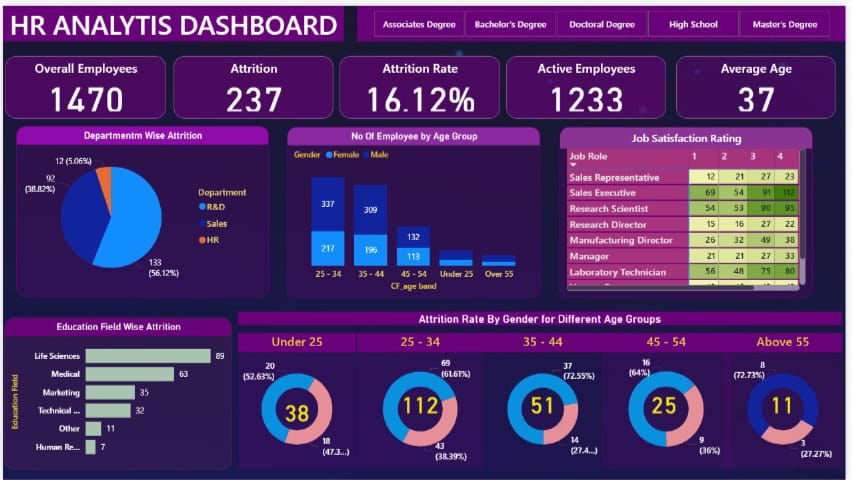

The dashboard page shown, as its layout file describes it:
{"tool":"powerbi","page":{"name":"Page 1","canvas":[1280,720],"ordinal":0},"visuals":[{"type":"card","title":"Overall Employees","fields":{"Values":["Sum(HR data.Employee Count)"]},"box":[3.8,76.2,243.8,95],"z":0},{"type":"card","title":"Attrition","fields":{"Values":["Sum(HR data.Attrition Count)"]},"box":[260,76.2,242.5,95],"z":1000},{"type":"card","title":"Attrition Rate","fields":{"Values":["HR data.Attriron Rate"]},"box":[511.2,76.2,243.8,95],"z":2000},{"type":"card","title":"Active Employees","fields":{"Values":["HR data.Actual Employees"]},"box":[765,76.2,242.5,95],"z":3000},{"type":"card","title":"Average Age","fields":{"Values":["Avg(HR data.Age)"]},"box":[1022.5,76.2,242.5,95],"z":4000},{"type":"pieChart","title":" Departmentm Wise Attrition","fields":{"Category":["HR data.Department"],"Y":["Sum(HR data.Attrition Count)"]},"box":[20,182.5,383.8,260],"z":5000},{"type":"columnChart","title":"No Of Employee by Age Group","fields":{"Category":["HR data.CF_age band"],"Y":["Sum(HR data.Employee Count)"],"Series":["HR data.Gender"]},"box":[431.2,183.8,385,260],"z":6000},{"type":"barChart","title":"Education  Field Wise Attrition","fields":{"Category":["HR data.Education Field"],"Y":["Sum(HR data.Attrition Count)"]},"box":[2.5,473.8,345,230],"z":7000},{"type":"donutChart","title":"Under 25","fields":{"Category":["HR data.Gender"],"Y":["Sum(HR data.Attrition Count)"],"Series":["HR data.CF_age band"]},"box":[357.5,496.2,180,207.5],"z":8000},{"type":"textbox","title":"Attrition  Rate By Gender for Different Age Groups","box":[357.5,465,917.5,20],"z":9000},{"type":"donutChart","title":"25 - 34","fields":{"Category":["HR data.Gender"],"Y":["Sum(HR data.Attrition Count)"],"Series":["HR data.CF_age band"]},"box":[537.5,496.2,192.5,207.5],"z":10000},{"type":"donutChart","title":"35 - 44","fields":{"Category":["HR data.Gender"],"Y":["Sum(HR data.Attrition Count)"],"Series":["HR data.CF_age band"]},"box":[730,496.2,180,207.5],"z":11000},{"type":"donutChart","title":"45 - 54","fields":{"Category":["HR data.Gender"],"Y":["Sum(HR data.Attrition Count)"],"Series":["HR data.CF_age band"]},"box":[910,496.2,195,207.5],"z":12000},{"type":"donutChart","title":"Above 55","fields":{"Category":["HR data.Gender"],"Y":["Sum(HR data.Attrition Count)"],"Series":["HR data.CF_age band"]},"box":[1095,496.2,180,207.5],"z":13000},{"type":"card","fields":{"Values":["Sum(HR data.Attrition Count)"]},"box":[600,588.8,67.5,52.5],"z":14000},{"type":"card","fields":{"Values":["Sum(HR data.Attrition Count)"]},"box":[787.5,588.8,65,52.5],"z":15000},{"type":"card","fields":{"Values":["Sum(HR data.Attrition Count)"]},"box":[972.5,588.8,65,52.5],"z":16000},{"type":"card","fields":{"Values":["Sum(HR data.Attrition Count)"]},"box":[1152.5,588.8,63.8,52.5],"z":17000},{"type":"card","fields":{"Values":["Sum(HR data.Attrition Count)"]},"box":[415,600,63.8,52.5],"z":18000},{"type":"pivotTable","title":"Job Satisfaction Rating","fields":{"Rows":["HR data.Job Role"],"Columns":["HR data.Job Satisfaction"],"Values":["Sum(HR data.Employee Count)"]},"box":[845,183.8,385,260],"z":19000},{"type":"textbox","title":"HR ANALYTIS DASHBOARD","box":[0,0,518.8,53.8],"z":20000},{"type":"slicer","fields":{"Values":["HR data.Education"]},"box":[537.5,0,742.5,53.8],"z":21000}]}

Visuals, with their boxes in screenshot pixels (x1, y1, x2, y2), scaled from the page's 1280x720 canvas onto the 852x480 screenshot:
"Overall Employees" card: 3/51/165/114
"Attrition" card: 173/51/334/114
"Attrition Rate" card: 340/51/503/114
"Active Employees" card: 509/51/671/114
"Average Age" card: 681/51/842/114
" Departmentm Wise Attrition" pieChart: 13/122/269/295
"No Of Employee by Age Group" columnChart: 287/123/543/296
"Education  Field Wise Attrition" barChart: 2/316/231/469
"Under 25" donutChart: 238/331/358/469
"Attrition  Rate By Gender for Different Age Groups" textbox: 238/310/849/323
"25 - 34" donutChart: 358/331/486/469
"35 - 44" donutChart: 486/331/606/469
"45 - 54" donutChart: 606/331/736/469
"Above 55" donutChart: 729/331/849/469
card - Sum(HR data.Attrition Count): 399/393/444/428
card - Sum(HR data.Attrition Count): 524/393/567/428
card - Sum(HR data.Attrition Count): 647/393/691/428
card - Sum(HR data.Attrition Count): 767/393/810/428
card - Sum(HR data.Attrition Count): 276/400/319/435
"Job Satisfaction Rating" pivotTable: 562/123/819/296
"HR ANALYTIS DASHBOARD" textbox: 0/0/345/36
slicer - HR data.Education: 358/0/851/36
